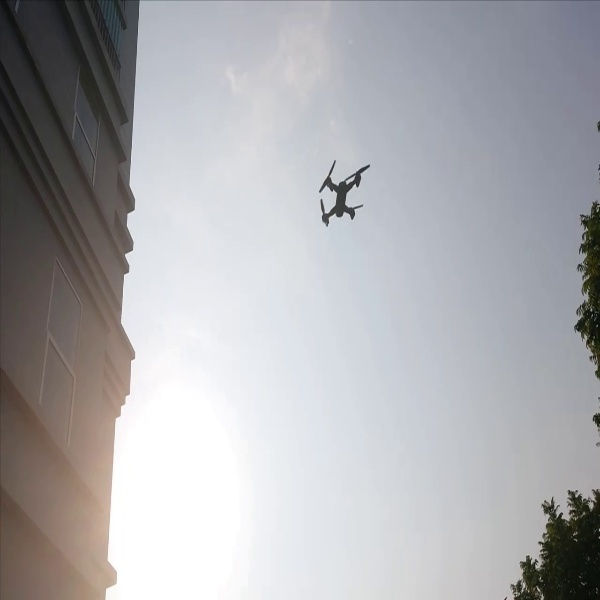drone: (303, 152, 368, 226)
